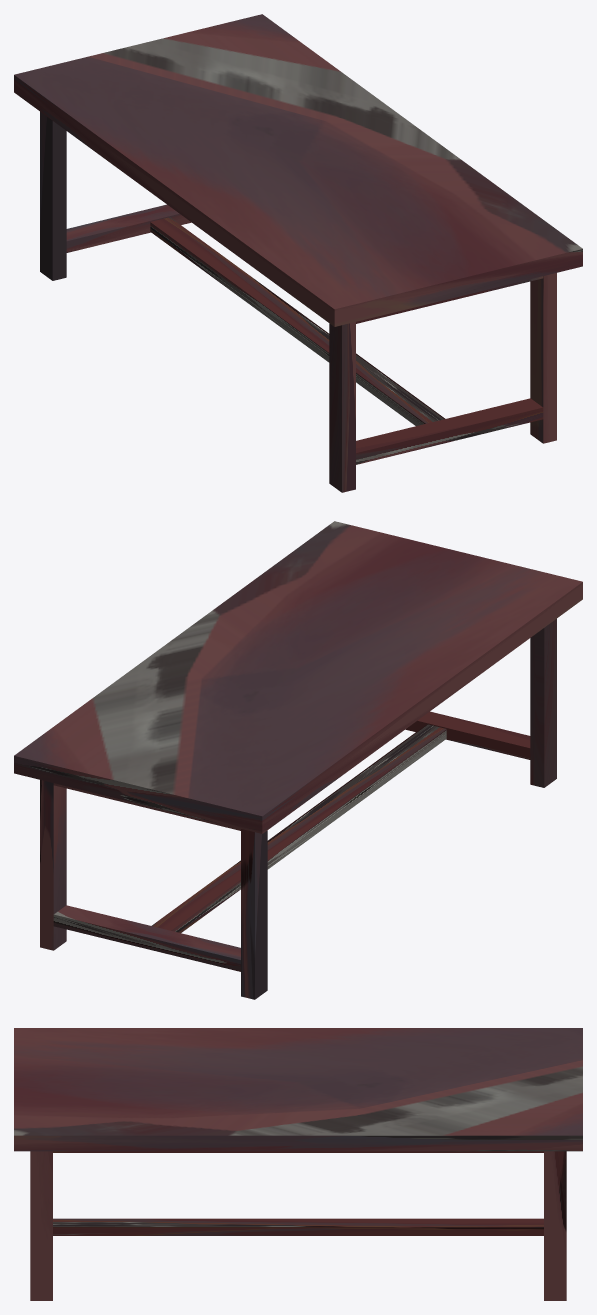
The model's file is table.fbx.
3 renders of one model, top to bottom at view 1: azimuth 30°, elevation 25°; view 2: azimuth 150°, elevation 25°; view 3: azimuth 270°, elevation 25°, orthographic. The views are drawn at different scales.
Parts seen in each view (by area): view 1: table; view 2: table; view 3: table.
Part boxes in pixels (left/top/right/bottom): table: left=14, top=14, right=582, bottom=492; table: left=14, top=521, right=582, bottom=999; table: left=14, top=1028, right=582, bottom=1300.
Size of the model in its own units: 538 by 402 by 1202.
